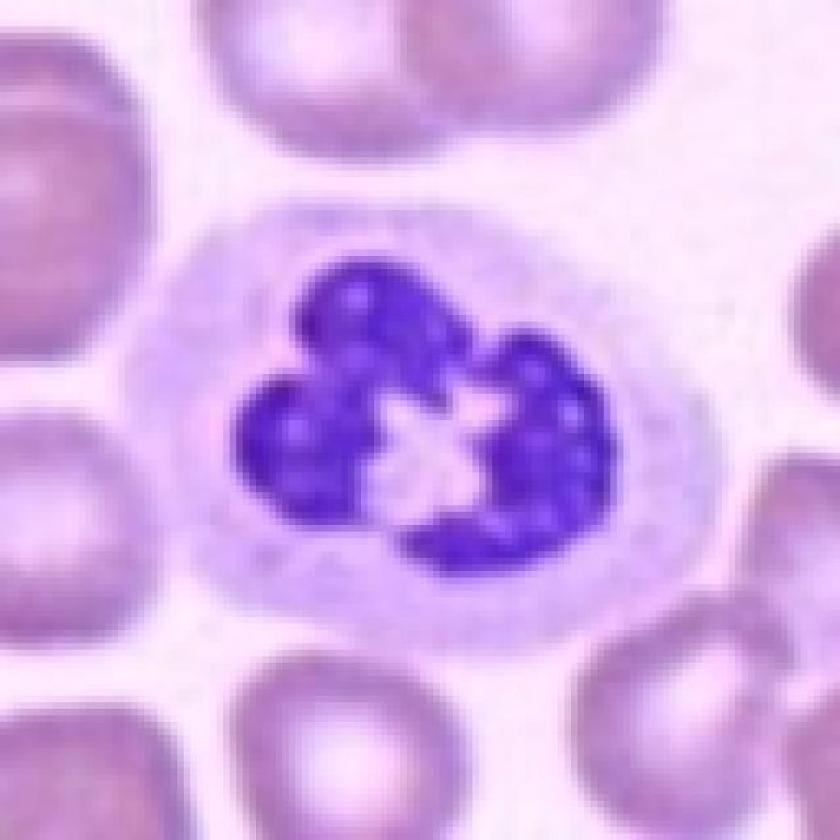neutrophil: (112, 191, 735, 668)
